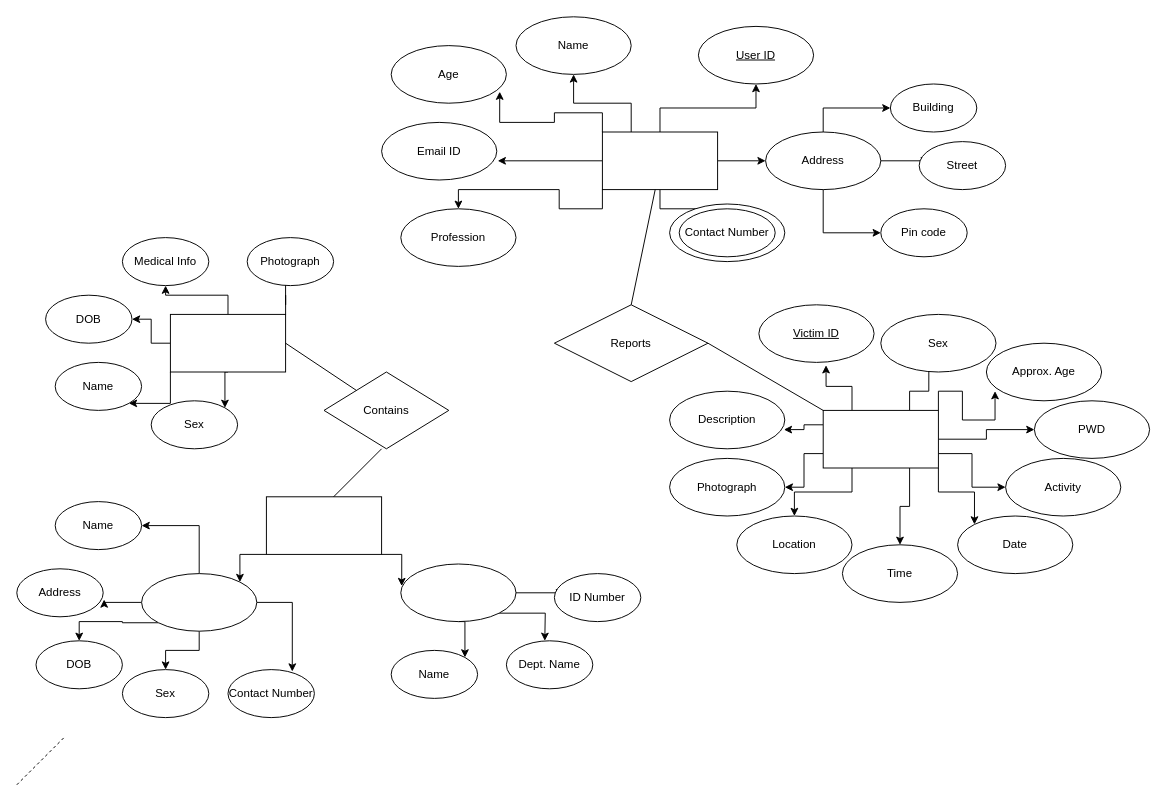
Some shapes in this 1166 by 803 pixel diagram are drawn without their labels. Each missing label, with the centre of its shape:
"App User" belongs at (659,160).
"Complainant" belongs at (199,602).
"Missing person" belongs at (227,342).
"Missing Report" belongs at (323,525).
"Police Officer" belongs at (458,592).
"Victim" belongs at (880,438).
